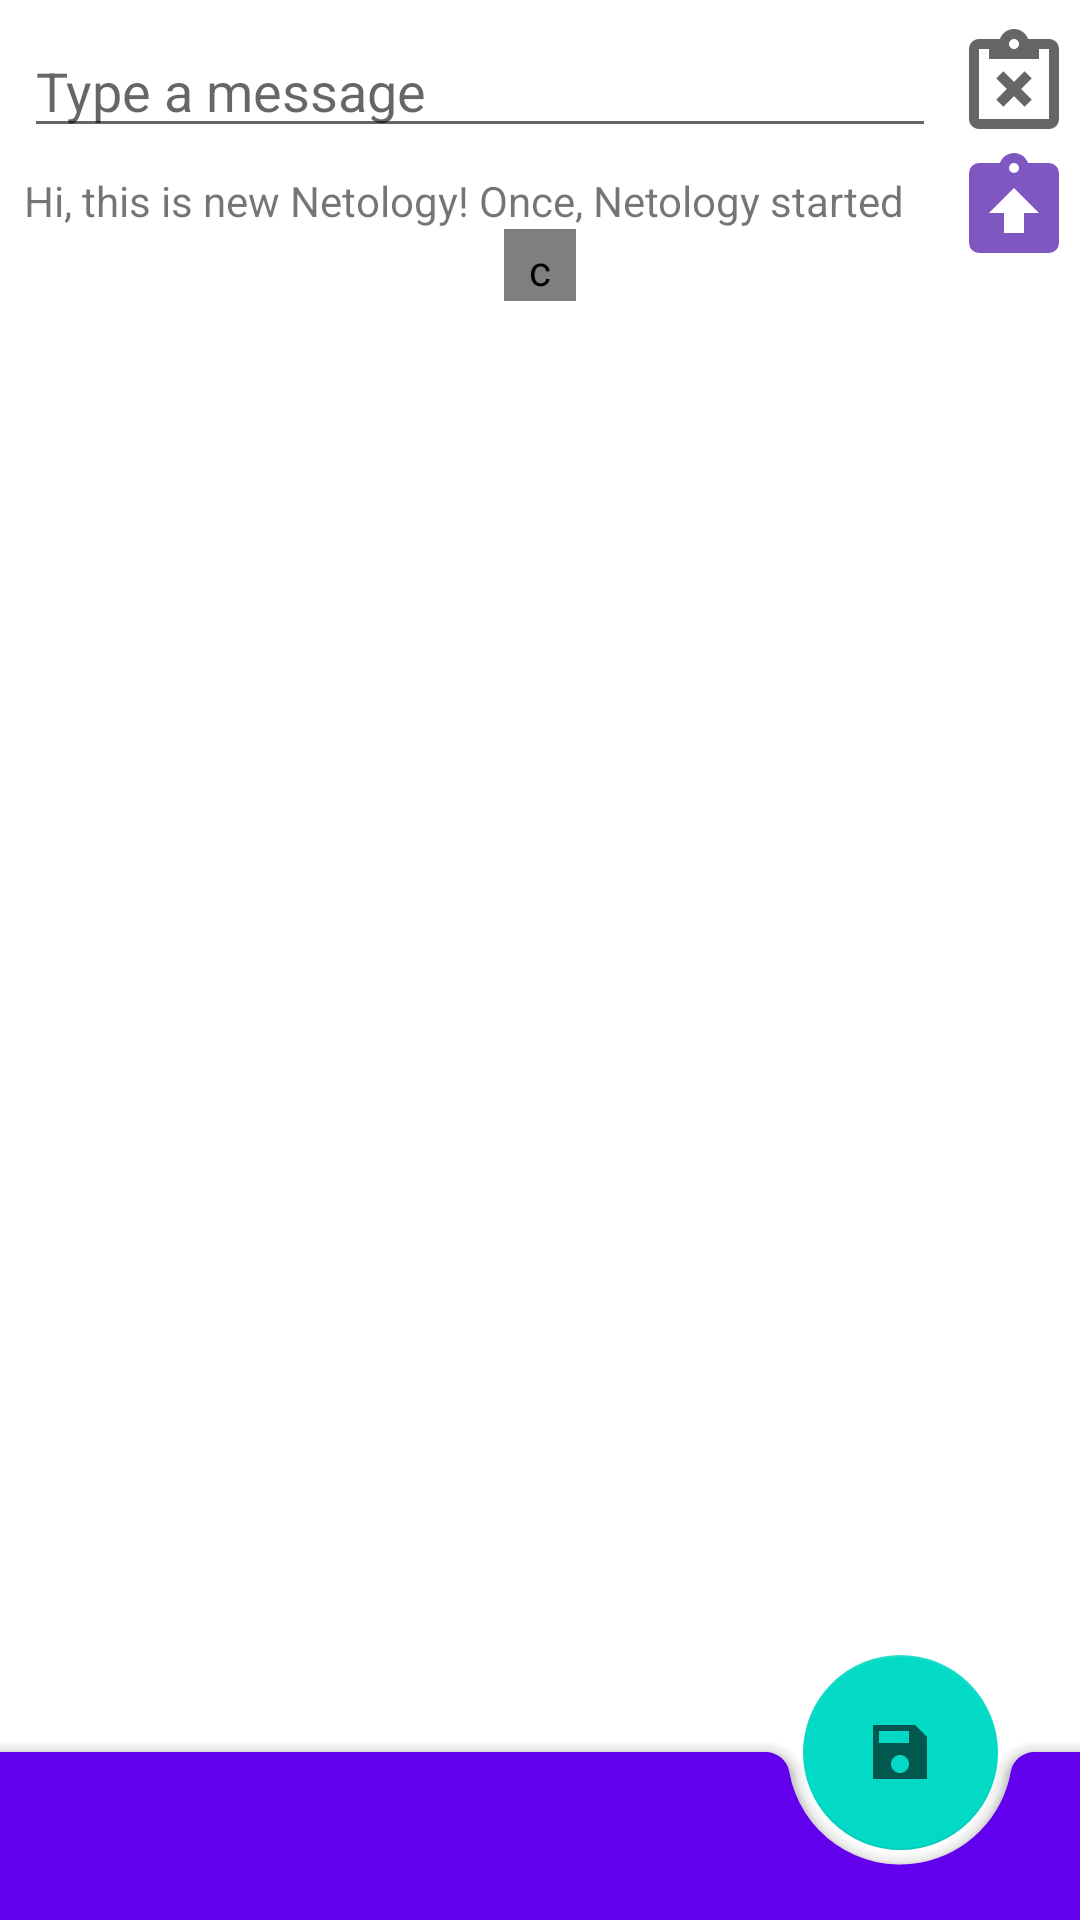

Icon bounding boxes for this 1080×1920 phone screenshot, format (x1, y1, x2, y2):
clear: (969, 29, 1059, 129)
